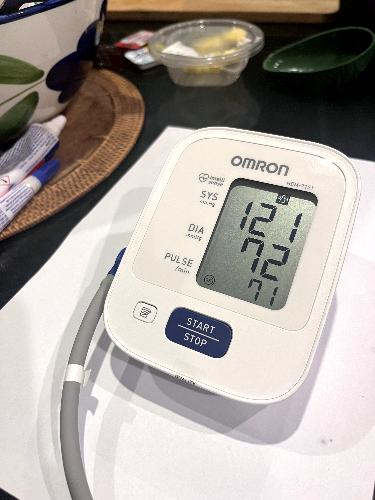bpm: (190, 162, 325, 315)
